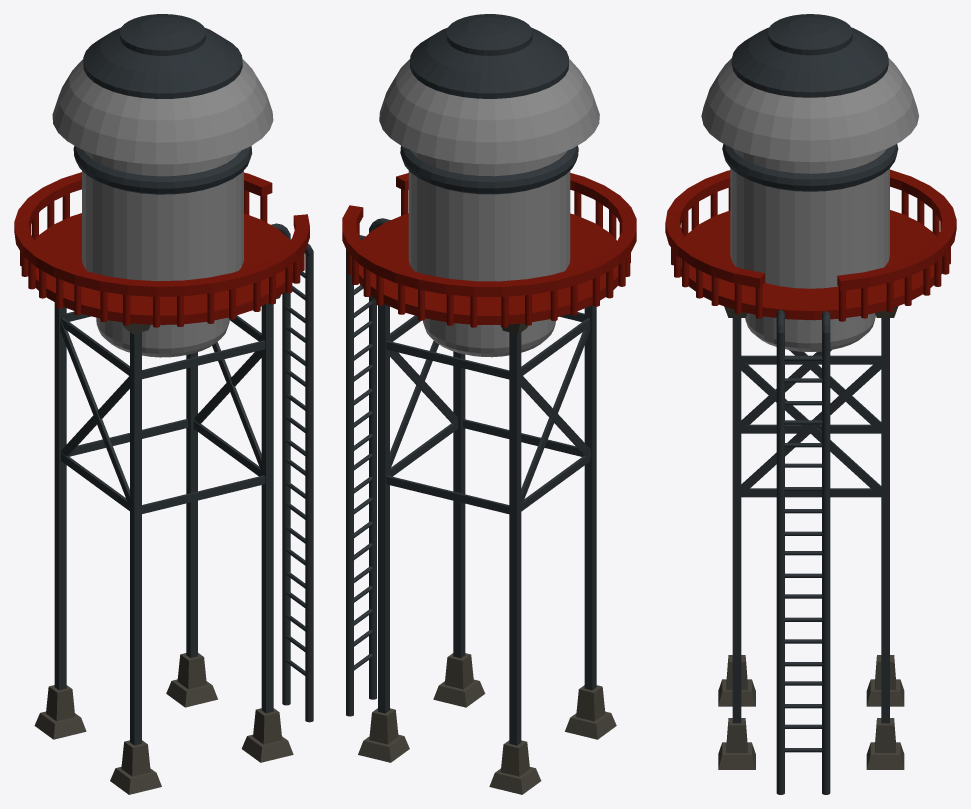
The model's file is WaterSilo.fbx.
The picture shows the model from 3 angles, left to right: view 1: azimuth 30°, elevation 25°; view 2: azimuth 150°, elevation 25°; view 3: azimuth 270°, elevation 25°; orthographic projection.
Parts seen in each view (by area): view 1: Cylinder; view 2: Cylinder; view 3: Cylinder.
Boxes of the visible parts, bbox=[...] form: Cylinder: bbox=[14, 14, 313, 794]; Cylinder: bbox=[342, 14, 636, 794]; Cylinder: bbox=[665, 14, 956, 794].
Size of the model in its own units: 75.23 by 196 by 73.12.
